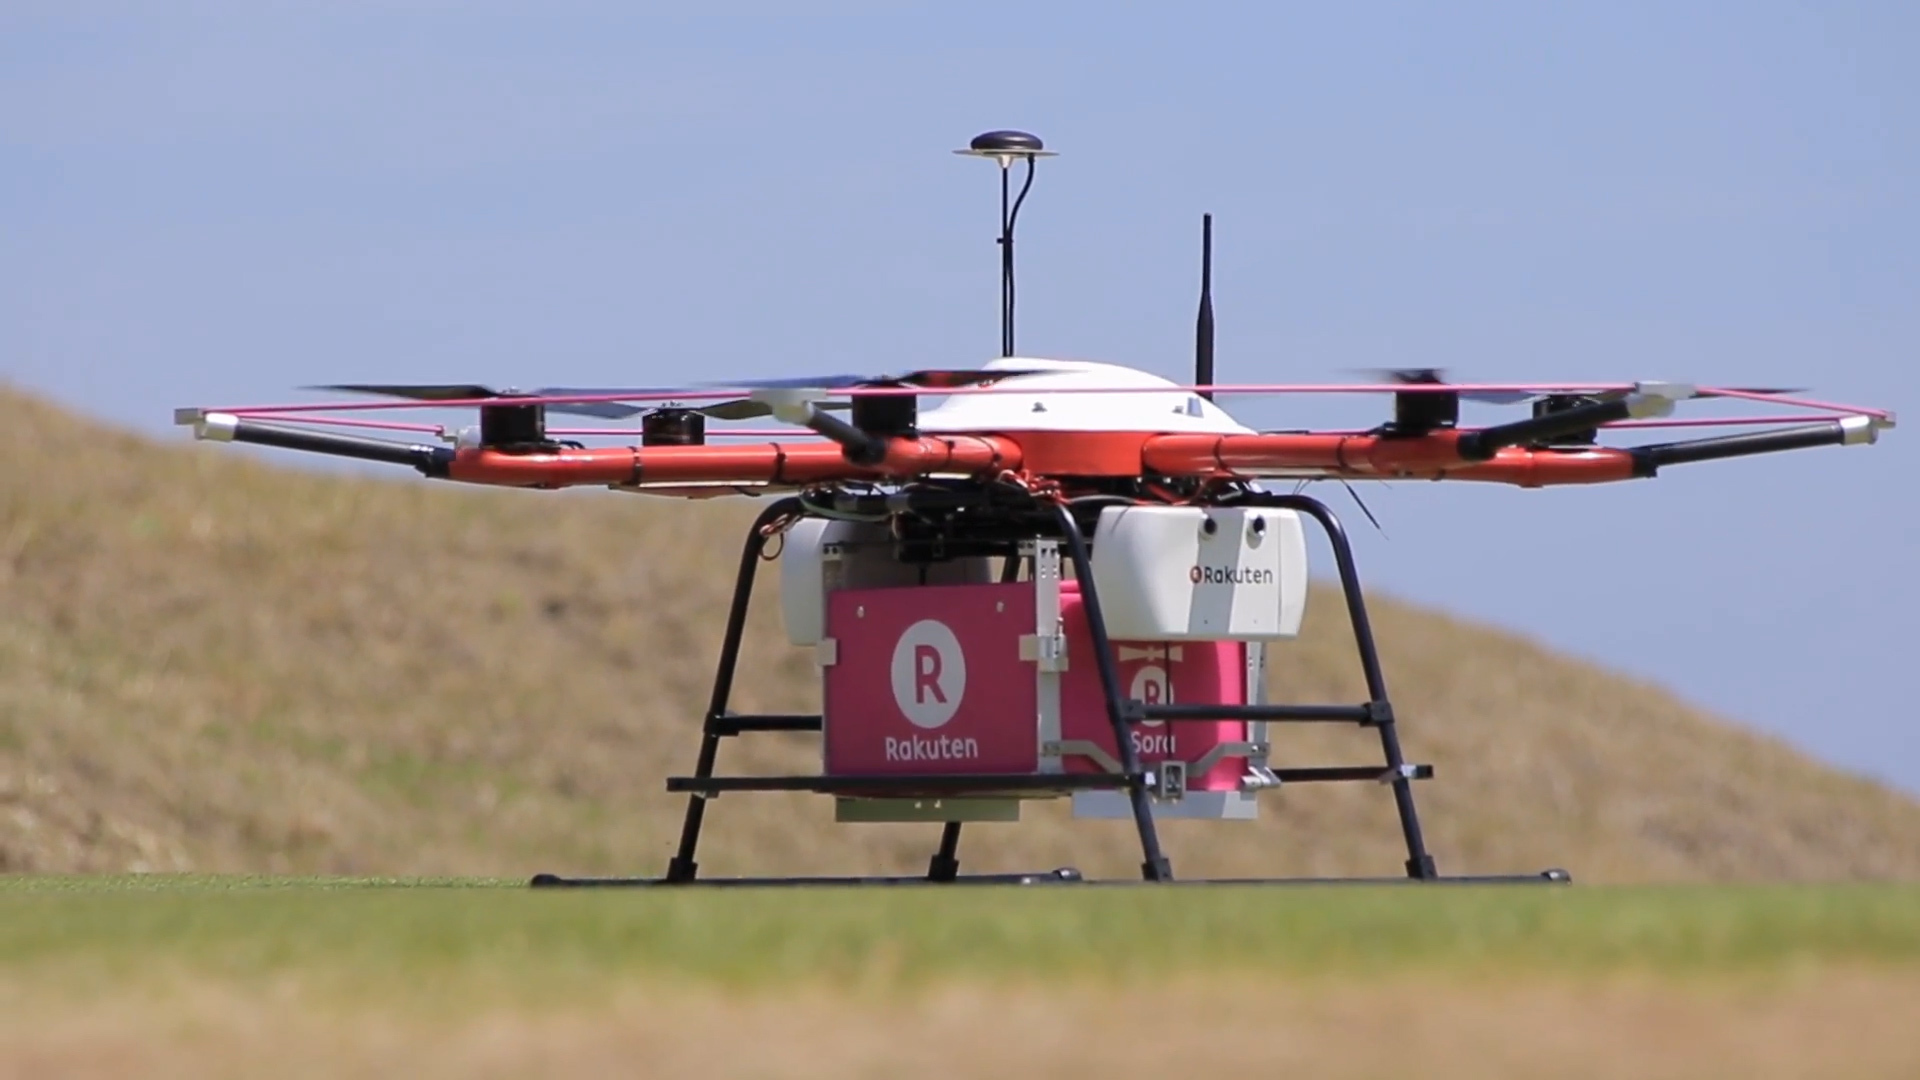drone: (167, 127, 1896, 893)
